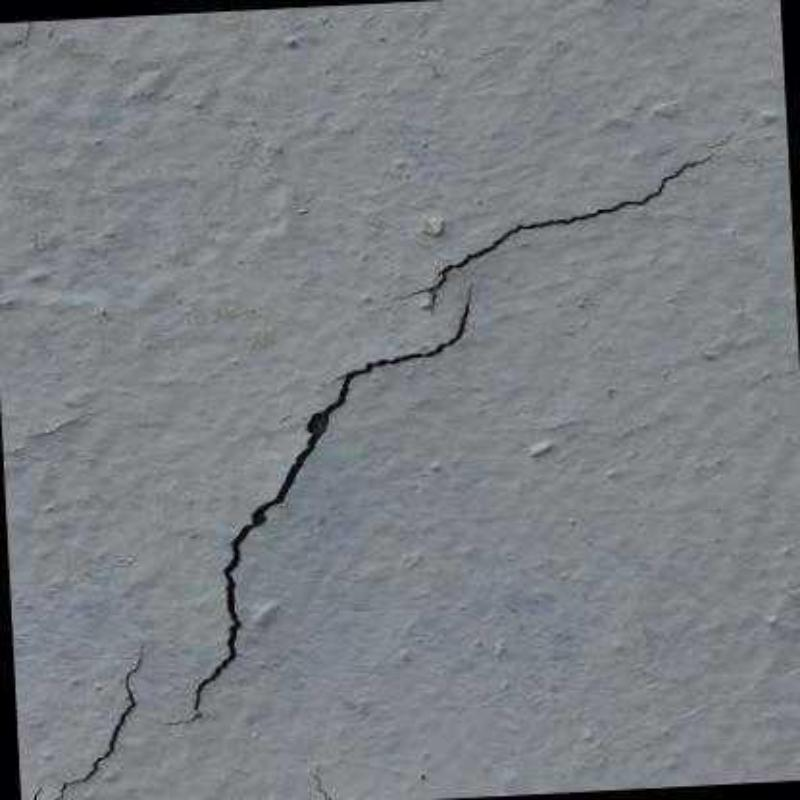crack: (149, 286, 471, 725), (399, 154, 710, 305), (55, 650, 144, 798), (28, 784, 42, 800)
